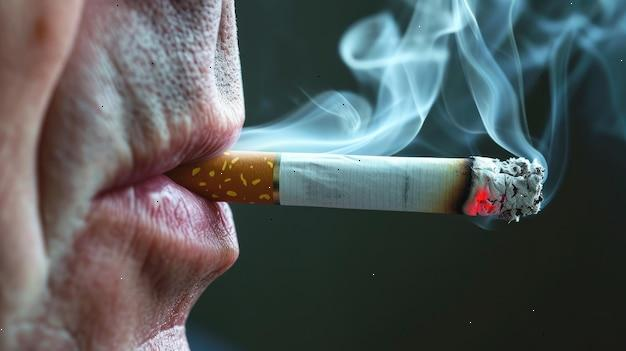cigarette: (166, 151, 543, 220)
